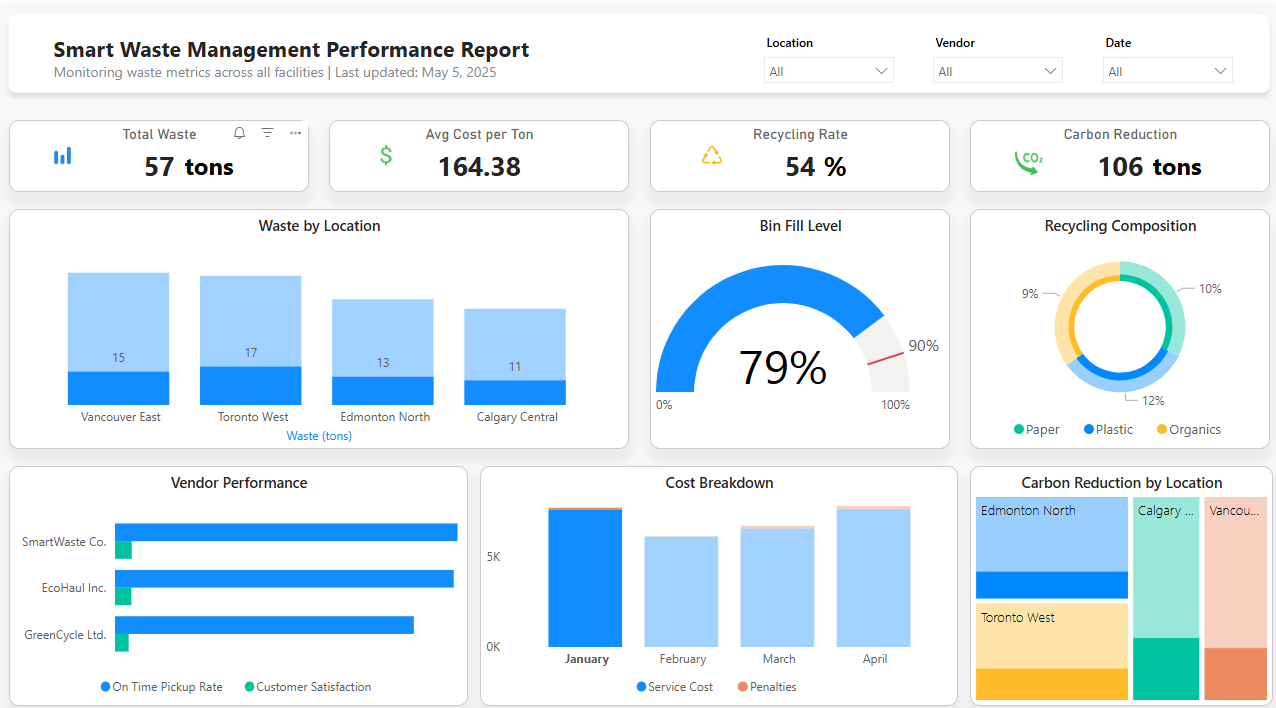

The dashboard page shown, as its layout file describes it:
{"tool":"powerbi","page":{"name":"Waste Management","canvas":[1280,720],"ordinal":0},"visuals":[{"type":"group","id":"g1","title":"Group 1","box":[0,0,1280,97.1],"z":0},{"type":"shape","box":[0,0,1280,97.1],"z":0,"group":"g1"},{"type":"card","title":"Recycling Rate","fields":{"Values":["Measures_Table.Recycling Rate"]},"box":[651,114.6,300,72],"z":0,"group":"g2"},{"type":"group","id":"g2","title":"Group 2","box":[10,114.6,1261.4,72],"z":1000},{"type":"card","title":"Total Waste","fields":{"Values":["Measures_Table.Total Waste","select"]},"box":[10,114.9,300,71.4],"z":1000,"group":"g2"},{"type":"card","title":"Avg Cost per Ton","fields":{"Values":["Measures_Table.Avg Cost Per Ton"]},"box":[330.5,114.6,300,72],"z":2000,"group":"g2"},{"type":"clusteredColumnChart","title":"Waste by Location","fields":{"Category":["waste_collection_summary.Location"],"Y":["Measures_Table.Total Waste"]},"box":[10,204,620,240],"z":2000},{"type":"textbox","box":[50,24.2,515.1,57],"z":3000,"group":"g1"},{"type":"textbox","box":[1148.6,138.6,72.9,47.1],"z":3000},{"type":"textbox","box":[181.4,138.9,81.4,47.1],"z":3000,"group":"g2"},{"type":"slicer","title":"Locations","fields":{"Values":["waste_collection_summary.Location"]},"box":[755,23.9,150,54],"z":4000,"group":"g1"},{"type":"card","title":"Carbon Reduction","fields":{"Values":["Measures_Table.Total Carbon Reduction"]},"box":[971.4,114.9,300,71.4],"z":4000,"group":"g2"},{"type":"clusteredBarChart","title":"Vendor Performance","fields":{"Category":["vendor_scorecard.Vendor"],"Y":["Sum(vendor_scorecard.OnTimePickupRate)","Sum(vendor_scorecard.CustomerSatisfaction)"]},"box":[10,461.4,458.6,240],"z":4000},{"type":"slicer","title":"Vendors","fields":{"Values":["waste_collection_summary.Vendor"]},"box":[924.4,23.9,150,54],"z":5000,"group":"g1"},{"type":"image","box":[35.7,134.4,55.7,31.4],"z":5000,"group":"g2"},{"type":"donutChart","title":"Recycling Composition","fields":{"Y":["Sum(recycling_performance.Paper)","Sum(recycling_performance.Plastic)","Sum(recycling_performance.Organics)"]},"box":[971.4,204.3,300,240],"z":5000},{"type":"slicer","title":"Time","fields":{"Values":["waste_collection_summary.Date"]},"box":[1093.8,23.9,150,54],"z":6000,"group":"g1"},{"type":"image","box":[360,133.2,54.3,32.9],"z":6000,"group":"g2"},{"type":"treemap","title":"Carbon Reduction by Location","fields":{"Group":["sustainability_kpis.Location"],"Values":["Measures_Table.Total Carbon Reduction"]},"box":[971.4,461.4,302.9,240],"z":6000},{"type":"image","box":[990,136.6,80,41.4],"z":7000,"group":"g2"},{"type":"columnChart","title":"Cost Breakdown","fields":{"Category":["waste_collection_summary.Date.Variation.Date Hierarchy.Month"],"Y":["Measures_Table.Total Service Cost","Measures_Table.Total Penalties"]},"box":[480.7,461.4,478.6,240],"z":7000},{"type":"image","box":[685.7,134.9,55.7,30],"z":8000,"group":"g2"},{"type":"gauge","title":"Bin Fill Level","fields":{"Y":["Avg(waste_collection_summary.BinFillPercent)"]},"box":[651.4,204.3,300,240],"z":8000},{"type":"textbox","box":[820,137.1,88.6,45.7],"z":9000}]}

Visuals, with their boxes in screenshot pixels (x1, y1, x2, y2), scaled from the page's 1280x720 canvas onto the 1276x708 screenshot:
"Group 1" group: bbox(0, 0, 1275, 95)
shape: bbox(0, 0, 1275, 95)
"Recycling Rate" card: bbox(649, 113, 948, 183)
"Group 2" group: bbox(10, 113, 1267, 183)
"Total Waste" card: bbox(10, 113, 309, 183)
"Avg Cost per Ton" card: bbox(329, 113, 629, 183)
"Waste by Location" clusteredColumnChart: bbox(10, 201, 628, 437)
textbox: bbox(50, 24, 563, 80)
textbox: bbox(1145, 136, 1218, 183)
textbox: bbox(181, 137, 262, 183)
"Locations" slicer: bbox(753, 24, 902, 77)
"Carbon Reduction" card: bbox(968, 113, 1267, 183)
"Vendor Performance" clusteredBarChart: bbox(10, 454, 467, 690)
"Vendors" slicer: bbox(922, 24, 1071, 77)
image: bbox(36, 132, 91, 163)
"Recycling Composition" donutChart: bbox(968, 201, 1267, 437)
"Time" slicer: bbox(1090, 24, 1240, 77)
image: bbox(359, 131, 413, 163)
"Carbon Reduction by Location" treemap: bbox(968, 454, 1270, 690)
image: bbox(987, 134, 1067, 175)
"Cost Breakdown" columnChart: bbox(479, 454, 956, 690)
image: bbox(684, 133, 739, 162)
"Bin Fill Level" gauge: bbox(649, 201, 948, 437)
textbox: bbox(817, 135, 906, 180)
